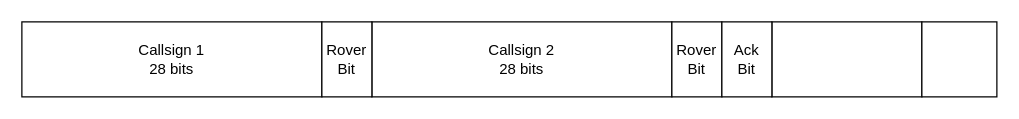
Some shapes in this 1019 by 119 pixel diagram are drawn without their labels. Here are the shapes that lost their labels. From the top down, the box of each, then its label:
(771, 21, 922, 97): Location or Signal Report 15 bits
(921, 21, 997, 97): Message Type 3 bits
